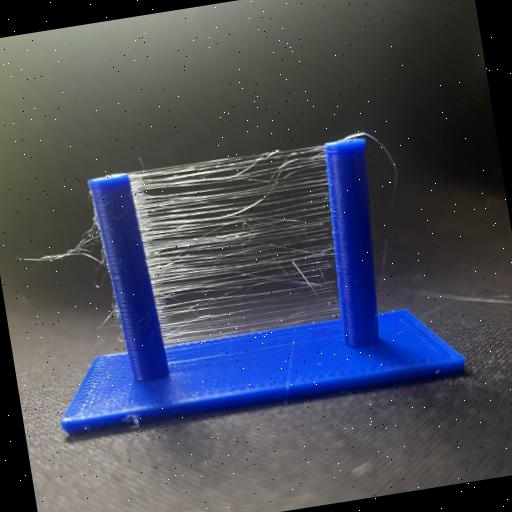stringing: (128, 144, 344, 346), (10, 205, 109, 275)
